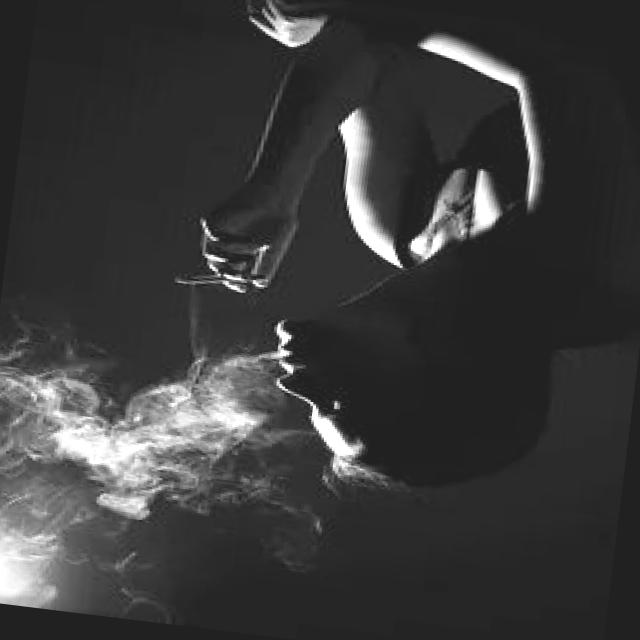smoke: (170, 270, 250, 297)
